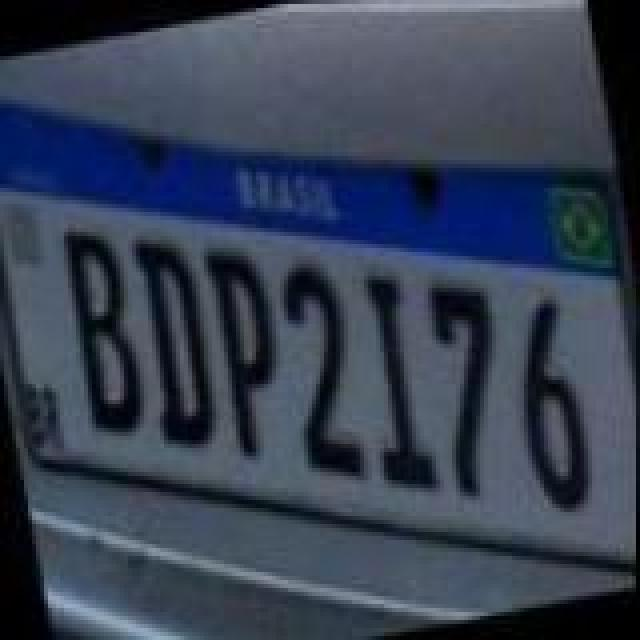2: (268, 250, 372, 486)
6: (496, 286, 600, 514)
7: (416, 270, 520, 502)
B: (52, 214, 152, 442)
D: (122, 224, 226, 460)
I: (342, 264, 442, 500)
P: (196, 232, 296, 460)
